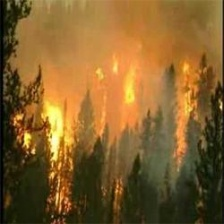fire: (13, 50, 207, 194)
